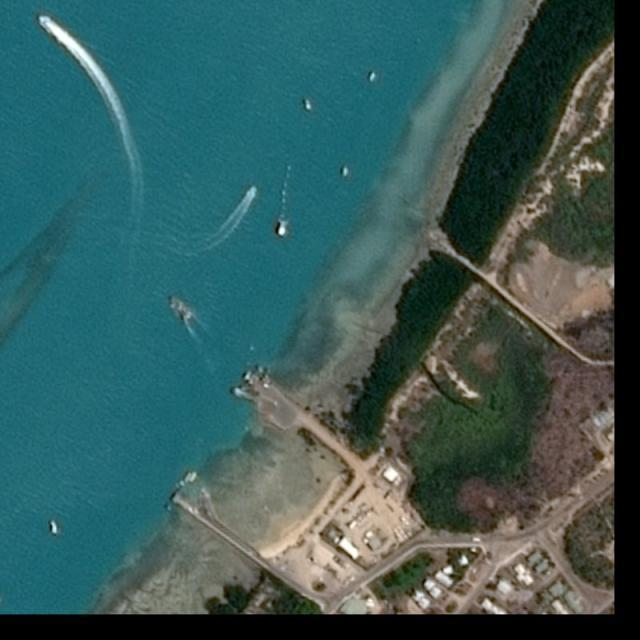ship: (168, 295, 196, 322), (39, 12, 54, 29), (49, 519, 61, 538), (277, 221, 289, 238), (182, 470, 194, 484), (368, 70, 378, 84), (190, 470, 199, 484), (248, 186, 258, 196), (342, 166, 350, 178), (305, 99, 311, 111)
